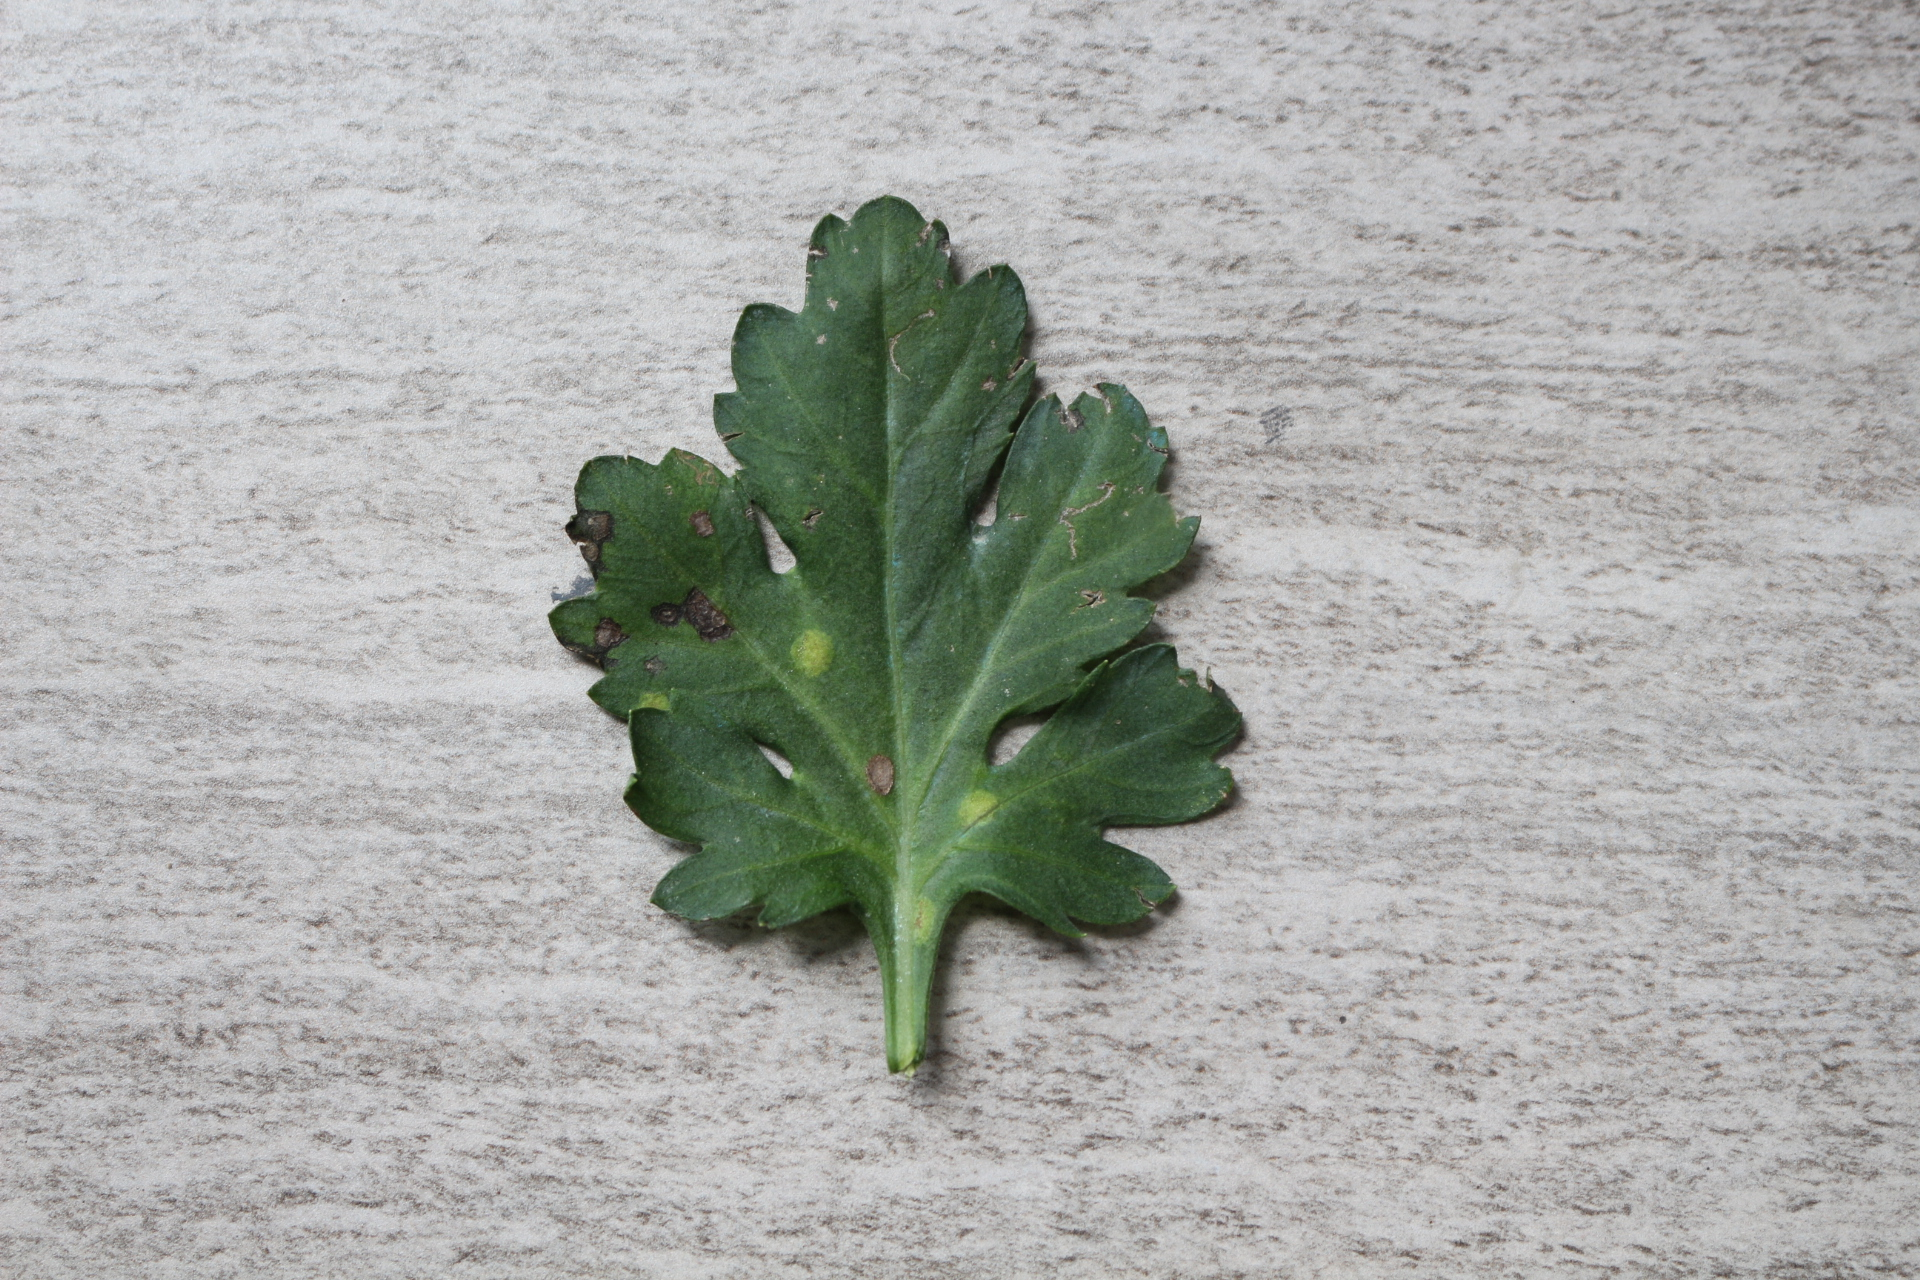namden: (649, 587, 739, 641), (556, 503, 617, 566), (864, 751, 901, 801), (589, 616, 629, 661), (690, 509, 723, 536)
namsung: (789, 626, 841, 681), (959, 790, 1000, 829)
